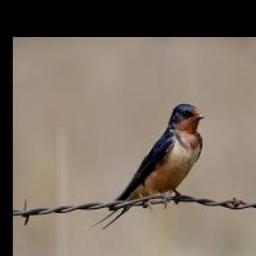Swallow: (91, 104, 205, 228)
